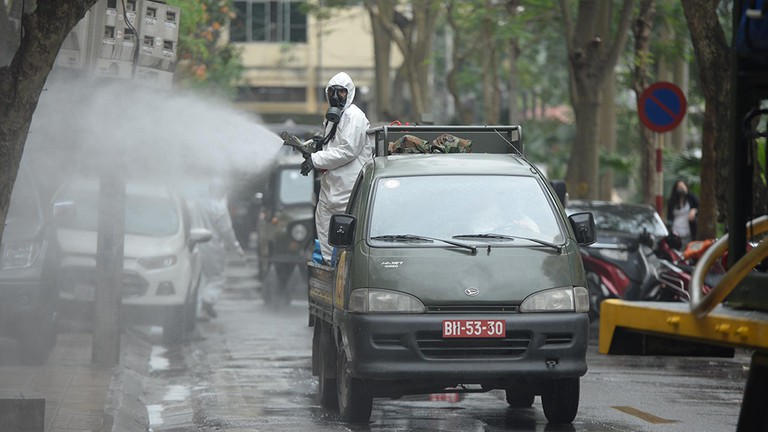plate: (442, 318, 507, 339)
